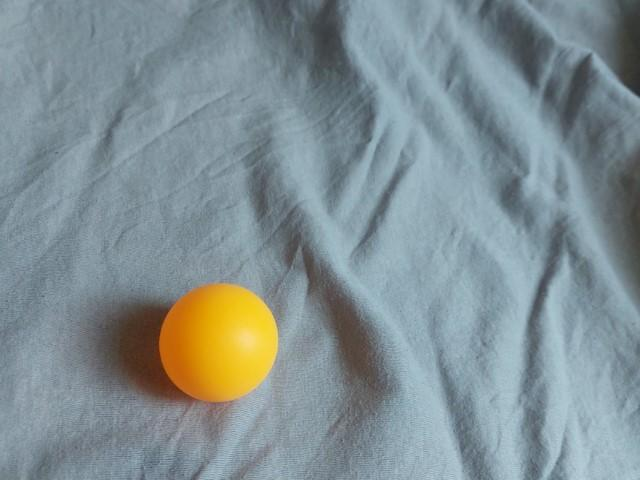oball: (146, 277, 288, 412)
